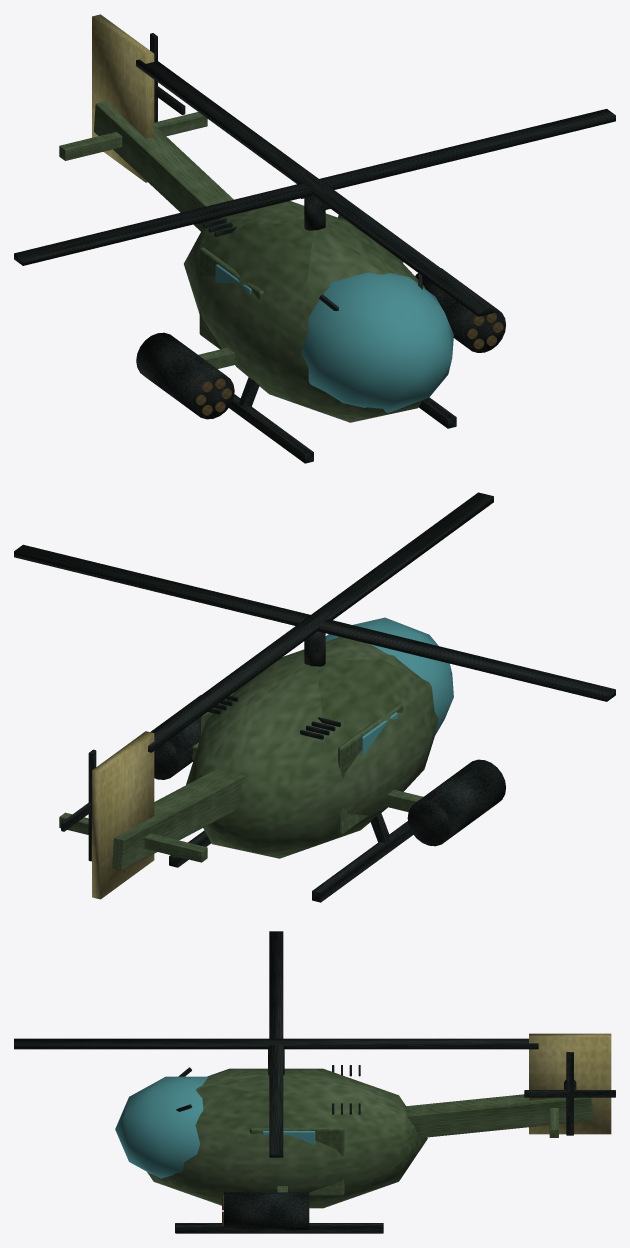
File: gunship.glb
The picture shows the model from 3 angles, top to bottom: view 1: azimuth 30°, elevation 25°; view 2: azimuth 150°, elevation 25°; view 3: azimuth 270°, elevation 25°; orthographic projection. The views are drawn at different scales.
Parts seen in each view (by area): view 1: Fuselage, Cockpit, Rotor, Rotor cross, Tail fin, Tail, Rocket pod, Rocket pod.001, Tail stabilizer, Skid, Sliding door, Rotor shaft; view 2: Fuselage, Rotor, Rotor cross, Tail fin, Tail, Rocket pod, Cockpit, Skid, Rocket pod.001, Tail stabilizer, Sliding door, Rotor shaft; view 3: Fuselage, Cockpit, Rotor cross, Tail fin, Tail, Rotor, Rocket pod.001, Skid.001, Sliding door.001, Tail rotor blade, Tail rotor blade cross.
Boxes of the visible parts, box(x1,y1,x2,y2) form: Fuselage: box(184, 201, 424, 422); Cockpit: box(301, 272, 453, 412); Rotor: box(14, 109, 615, 265); Rotor cross: box(136, 58, 493, 316); Tail fin: box(92, 14, 154, 182); Tail: box(94, 101, 233, 231); Rocket pod: box(136, 332, 234, 419); Rocket pod.001: box(415, 268, 505, 352); Tail stabilizer: box(59, 112, 207, 160); Skid: box(229, 394, 313, 463); Sliding door: box(199, 247, 263, 349); Rotor shaft: box(304, 195, 325, 230); Fuselage: box(186, 637, 438, 858); Rotor: box(14, 544, 615, 701); Rotor cross: box(148, 492, 493, 752); Tail fin: box(92, 731, 154, 899); Tail: box(112, 769, 244, 870); Rocket pod: box(407, 759, 505, 846); Cockpit: box(325, 617, 453, 735); Skid: box(312, 821, 413, 902); Rocket pod.001: box(150, 695, 200, 779); Tail stabilizer: box(59, 812, 207, 862); Sliding door: box(338, 703, 403, 834); Rotor shaft: box(304, 631, 325, 666); Fuselage: box(147, 1068, 427, 1208); Cockpit: box(115, 1076, 208, 1178); Rotor cross: box(14, 1038, 538, 1049); Tail fin: box(529, 1033, 611, 1134); Tail: box(405, 1094, 593, 1138); Rotor: box(269, 931, 283, 1157); Rocket pod.001: box(224, 1192, 309, 1229); Skid.001: box(175, 1223, 383, 1233); Sliding door.001: box(249, 1127, 344, 1195); Tail rotor blade: box(524, 1090, 615, 1097); Tail rotor blade cross: box(566, 1052, 573, 1135).
Size of the model in its own units: 8.3 by 2.97 by 9.53.
Materials: 5 (4 with a texture image).
